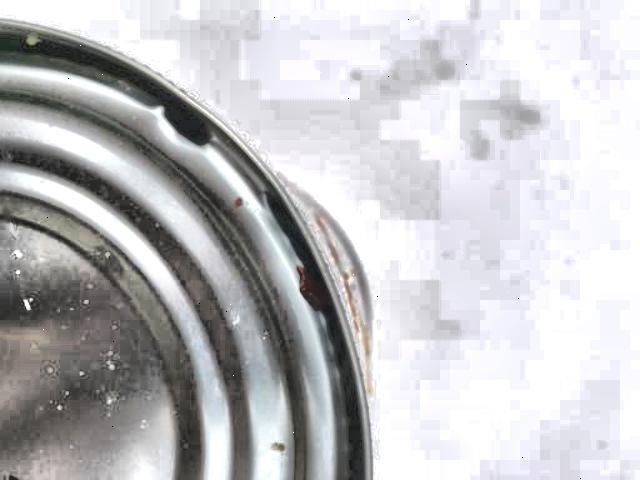Almennt: (0, 2, 427, 480)
